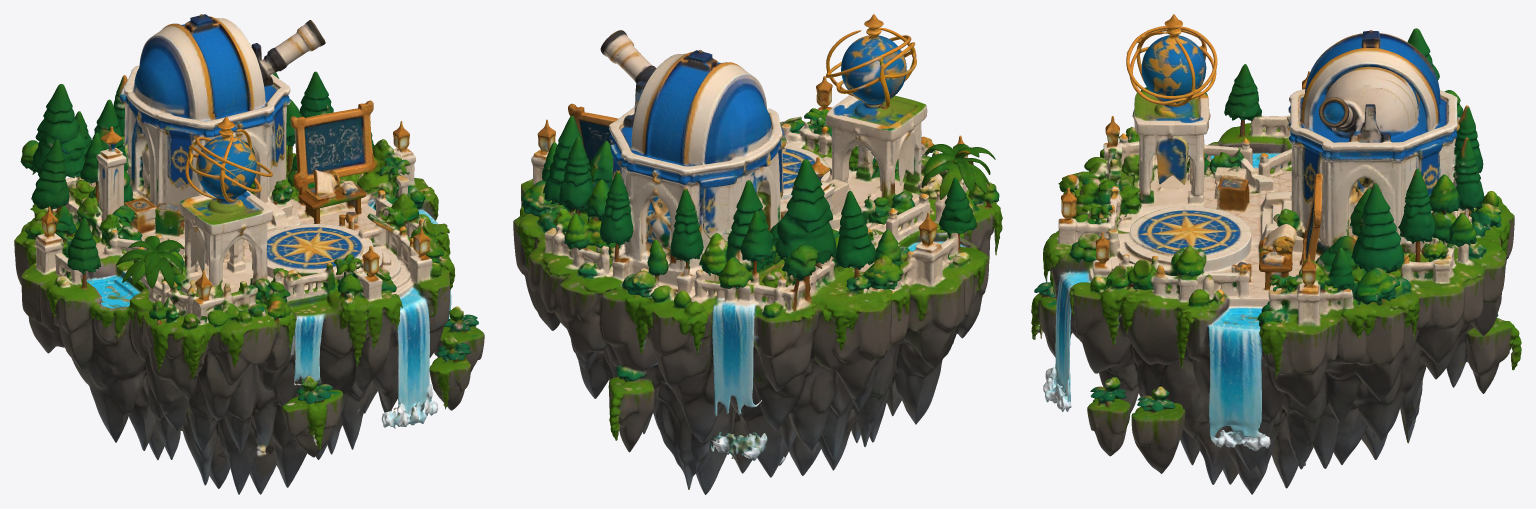
Rendered from meshy-pulaunumeria.glb.
3 renders of one model, left to right at view 1: azimuth 30°, elevation 25°; view 2: azimuth 150°, elevation 25°; view 3: azimuth 270°, elevation 25°, orthographic. The views are drawn at different scales.
Size of the model in its own units: 1.85 by 1.9 by 1.84.
Materials: 1 (1 with a texture image).
